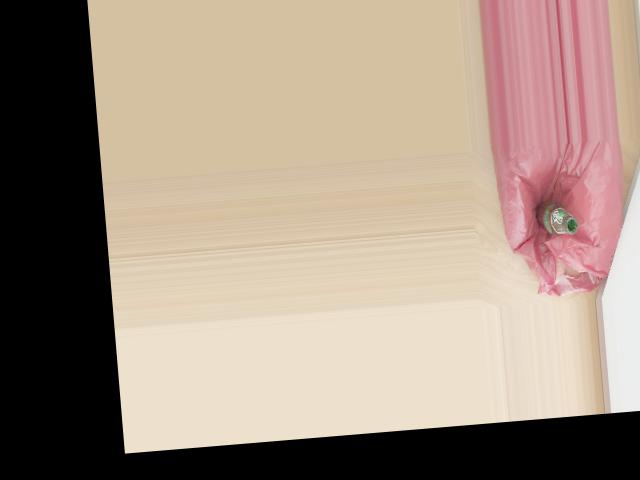beer: (533, 199, 578, 237)
